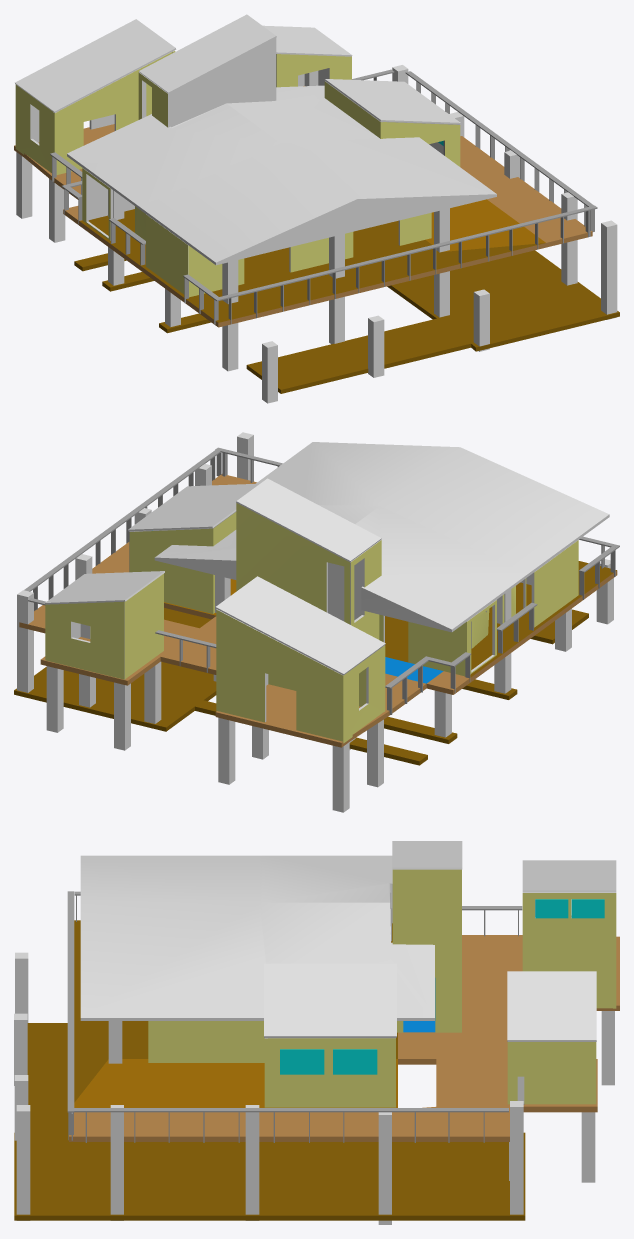
The model's file is BaldwinLight 1.fbx.
3 views of the same model, one above another, from view 1: azimuth 30°, elevation 25°; view 2: azimuth 150°, elevation 25°; view 3: azimuth 270°, elevation 25° (orthographic). The views are drawn at different scales.
Visible parts, largest first — view 1: pCube1445, pCube1335, pCube590; view 2: pCube1445, pCube590; view 3: pCube1445, pCube590, pCube1335, pCube1446, pCube1447, pCube1449, pCube1448.
Boxes of the visible parts, x1,y1,x2,y2 form: pCube1445: (14, 14, 619, 403); pCube1335: (214, 205, 597, 301); pCube590: (405, 71, 593, 206); pCube1445: (14, 432, 617, 812); pCube590: (24, 450, 220, 591); pCube1445: (14, 841, 619, 1224); pCube590: (74, 1108, 508, 1112); pCube1335: (67, 891, 74, 1112); pCube1446: (280, 1049, 324, 1074); pCube1447: (333, 1049, 377, 1074); pCube1449: (571, 899, 604, 918); pCube1448: (535, 899, 568, 918).
Size of the model in its own units: 256 by 137 by 298.
